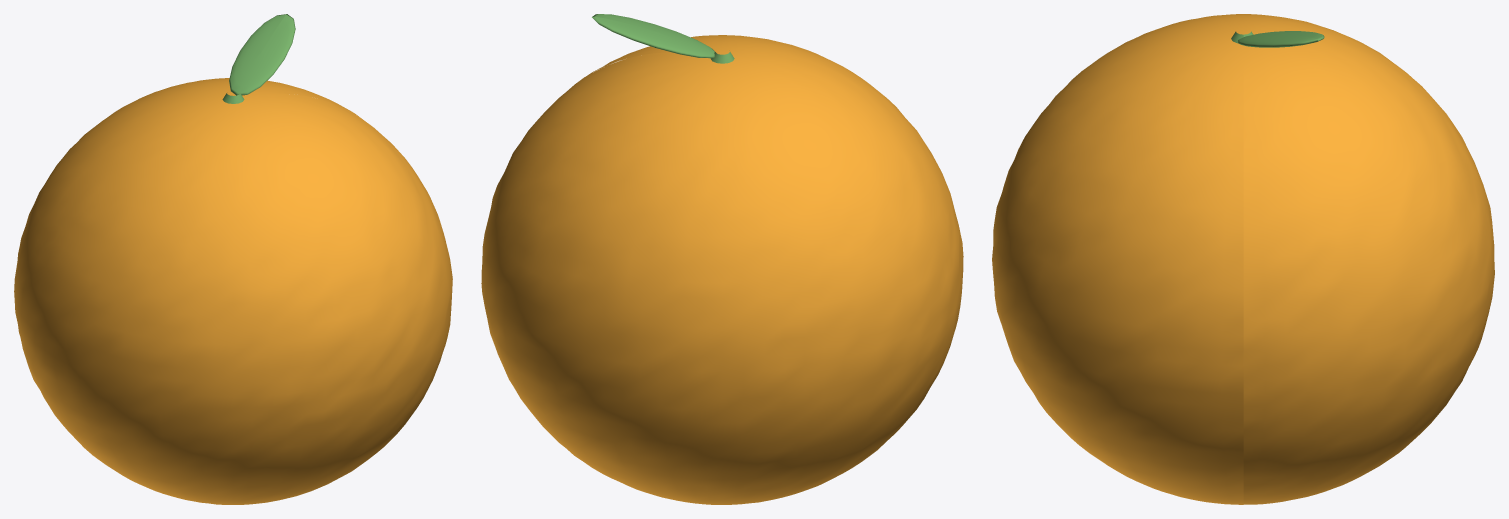
The model's file is laranja.glb.
The picture shows the model from 3 angles, left to right: view 1: azimuth 30°, elevation 25°; view 2: azimuth 150°, elevation 25°; view 3: azimuth 270°, elevation 25°; orthographic projection. The views are drawn at different scales.
Visible parts, largest first — view 1: laranja; view 2: laranja; view 3: laranja.
Part boxes in pixels (left/top/right/bottom): laranja: left=14, top=14, right=452, bottom=504; laranja: left=481, top=14, right=963, bottom=504; laranja: left=992, top=14, right=1494, bottom=504.
Size of the model in its own units: 1.96 by 2.1 by 1.96.
